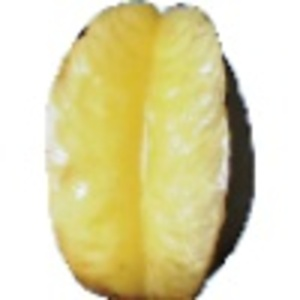carambola: (45, 1, 255, 300)
